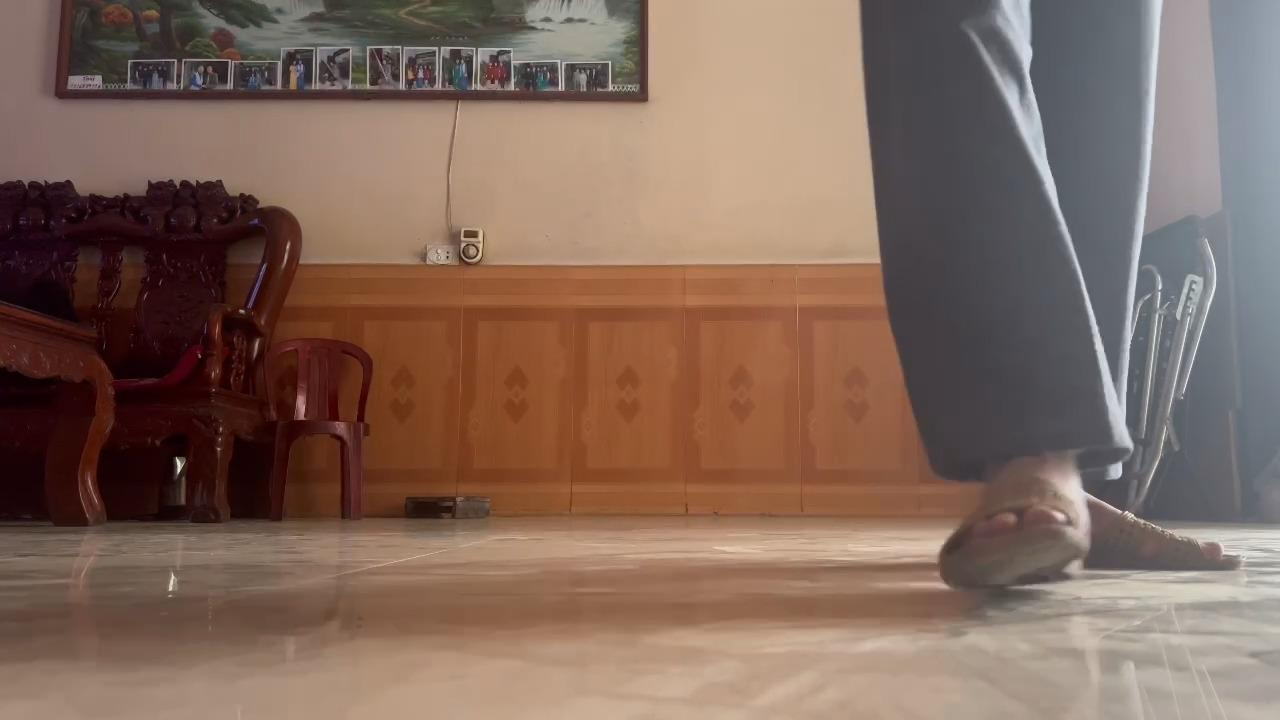no-boot: (933, 472, 1090, 599), (1093, 493, 1235, 578)
